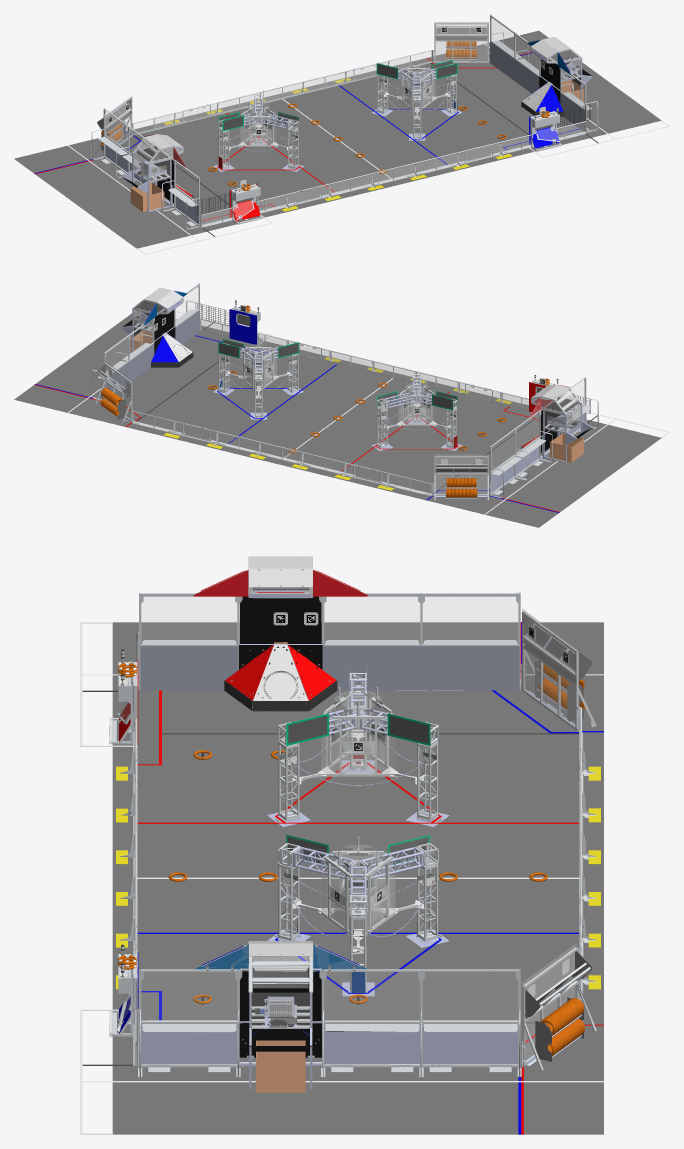
Rendered from field-optimized.glb.
3 renders of one model, top to bottom at view 1: azimuth 30°, elevation 25°; view 2: azimuth 150°, elevation 25°; view 3: azimuth 270°, elevation 25°, orthographic. The views are drawn at different scales.
Parts seen in each view (by area): view 1: carpet-0, GE-24010, FE-00082, FE-00008, GE-24015-01, High Note, FE-00004-01, GE-24392, Cache Zone, GE-24016, GE-24202-Vinyl, Endgame Tape (+5 smaller); view 2: carpet-0, GE-24010, FE-00082, FE-00008, GE-24015-01, High Note, Cache Zone, GE-24392, FE-00004-01, GE-24202-Vinyl, GE-24016, S-4478 (+6 smaller); view 3: carpet-0, GE-24010, FE-00008, GE-24015-01, FE-00082, FE-00004-01, GE-24392, High Note, Endgame Tape, GE-24016, 855T-MPB10 Stand, GE-24202-Vinyl (+7 smaller).
Part boxes in pixels (<box>): carpet-0: <box>14,30,661,248</box>; GE-24010: <box>91,14,598,229</box>; FE-00082: <box>105,22,584,224</box>; FE-00008: <box>106,17,584,198</box>; GE-24015-01: <box>105,27,592,224</box>; High Note: <box>68,26,669,254</box>; FE-00004-01: <box>490,41,584,131</box>; GE-24392: <box>122,50,592,203</box>; Cache Zone: <box>34,40,579,173</box>; GE-24016: <box>97,25,576,203</box>; GE-24202-Vinyl: <box>144,60,457,164</box>; Endgame Tape: <box>35,52,531,221</box>; carpet-0: <box>14,306,661,527</box>; GE-24010: <box>91,283,598,500</box>; FE-00082: <box>105,291,581,493</box>; FE-00008: <box>105,286,583,492</box>; GE-24015-01: <box>102,300,592,498</box>; High Note: <box>68,291,669,514</box>; Cache Zone: <box>35,291,559,512</box>; GE-24392: <box>123,301,591,453</box>; FE-00004-01: <box>105,310,199,393</box>; GE-24202-Vinyl: <box>218,339,569,416</box>; GE-24016: <box>97,312,580,472</box>; S-4478: <box>130,330,583,462</box>; carpet-0: <box>112,622,603,1134</box>; GE-24010: <box>109,556,596,1077</box>; FE-00008: <box>141,595,518,1019</box>; GE-24015-01: <box>117,569,582,1089</box>; FE-00082: <box>117,558,579,1060</box>; FE-00004-01: <box>140,646,519,690</box>; GE-24392: <box>239,569,322,1057</box>; High Note: <box>80,572,603,1134</box>; Endgame Tape: <box>119,570,603,1134</box>; GE-24016: <box>132,616,592,1061</box>; 855T-MPB10 Stand: <box>121,556,312,1015</box>; GE-24202-Vinyl: <box>273,713,430,1014</box>.
Bounding box in the file's own units: 22.56 × 2.53 × 9.75.
